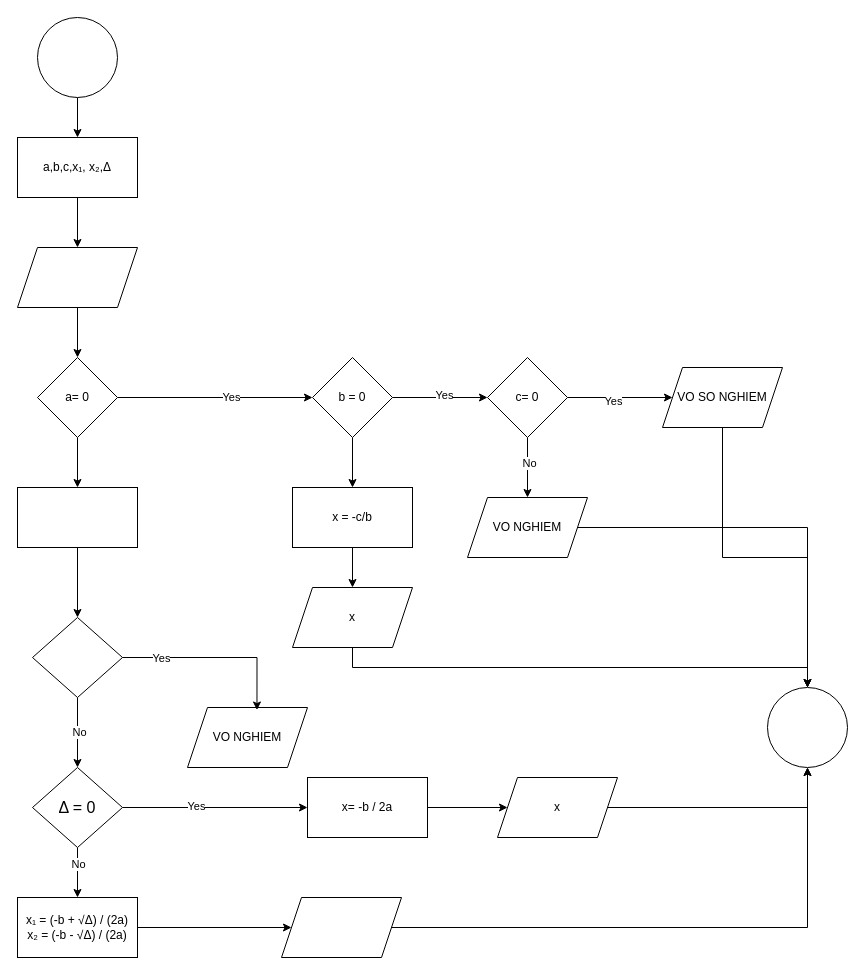
Some shapes in this 865 by 975 pixel diagram are drawn without their labels. Each missing label, with the centre of its shape:
a,b,c: point (77, 277)
END: point (807, 727)
START: point (77, 57)
x₁, x₂: point (341, 927)
Δ < 0: point (77, 657)
Δ = b² - 4ac: point (77, 517)
